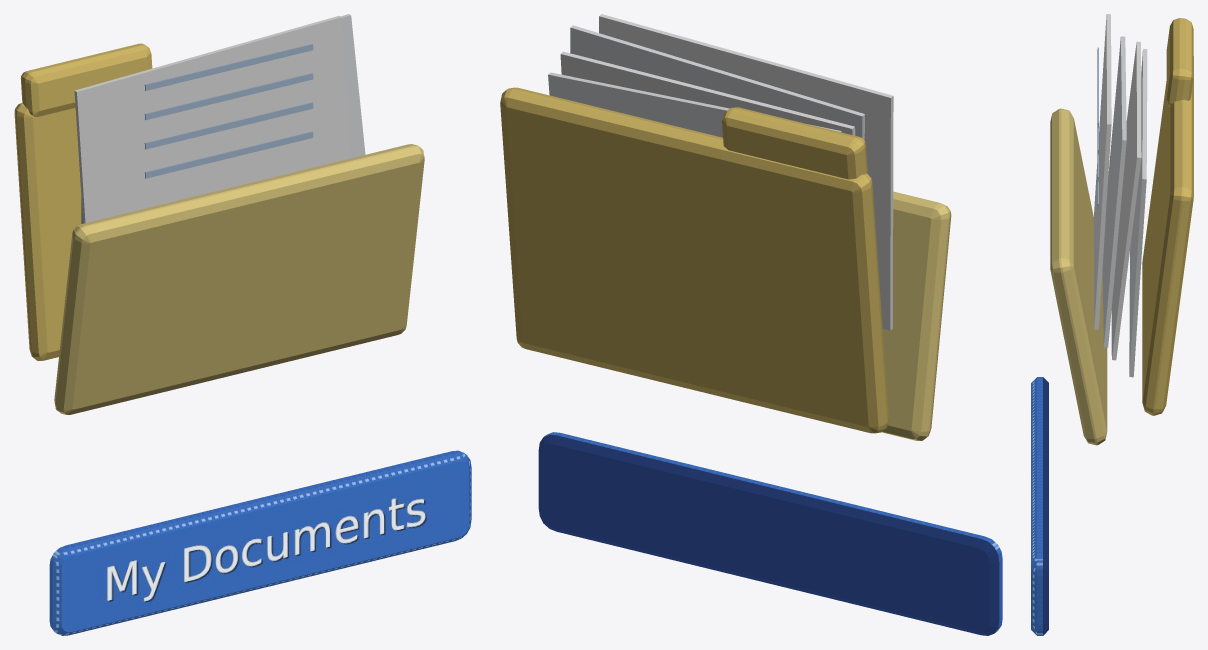
The model's file is icon-my-documents.glb.
3 renders of one model, left to right at view 1: azimuth 30°, elevation 25°; view 2: azimuth 150°, elevation 25°; view 3: azimuth 270°, elevation 25°, orthographic. The views are drawn at different scales.
Visible parts, largest first — view 1: thing, label; view 2: thing, label; view 3: thing, label.
Part boxes in pixels (x1,y1,x2,y2): thing: (14,14,424,414); label: (49,450,471,635); thing: (500,14,951,440); label: (538,432,1002,635); thing: (1050,14,1193,445); label: (1031,377,1048,635).
Bounding box in the file's own units: 0.3 × 0.3523 × 0.1092.
2 materials, 1 textured.
